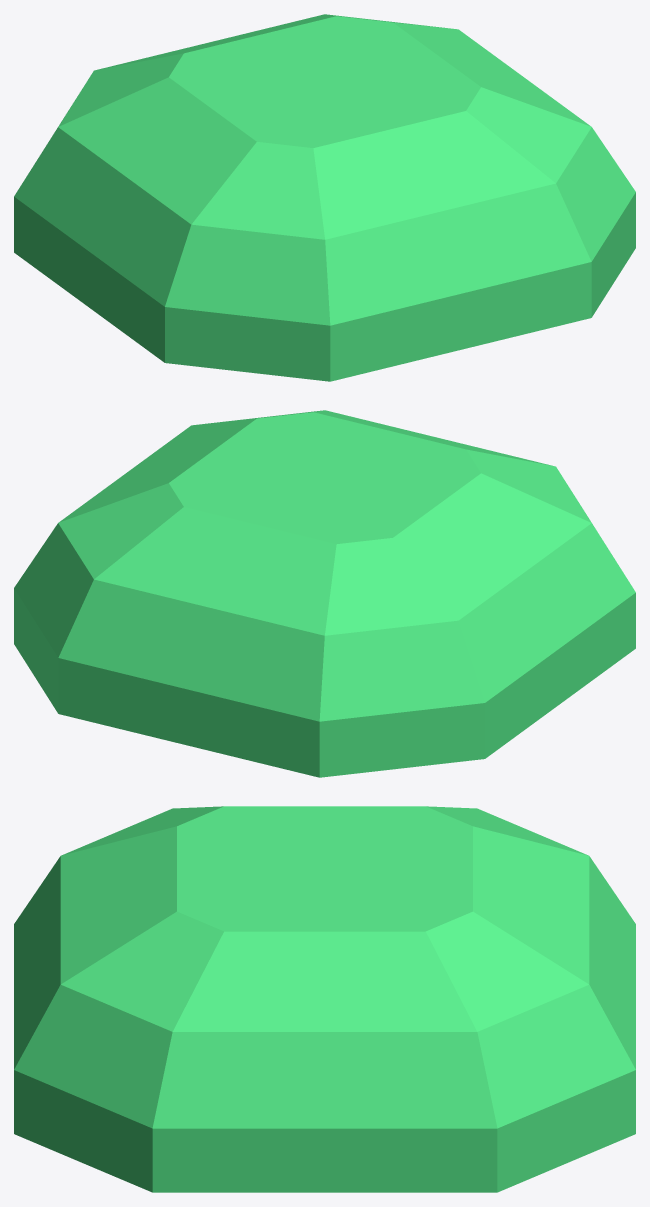
File: SymbolEmerald.fbx
The picture shows the model from 3 angles, top to bottom: view 1: azimuth 30°, elevation 25°; view 2: azimuth 150°, elevation 25°; view 3: azimuth 270°, elevation 25°; orthographic projection. The views are drawn at different scales.
Visible parts, largest first — view 1: emerald; view 2: emerald; view 3: emerald.
Part boxes in pixels (box(x1,y1,x2,y2)): emerald: box(14, 14, 635, 381); emerald: box(14, 410, 635, 777); emerald: box(14, 806, 635, 1192).
Bounding box in the file's own units: 0.0888 × 0.0303 × 0.0888.
1 material, 1 textured.
